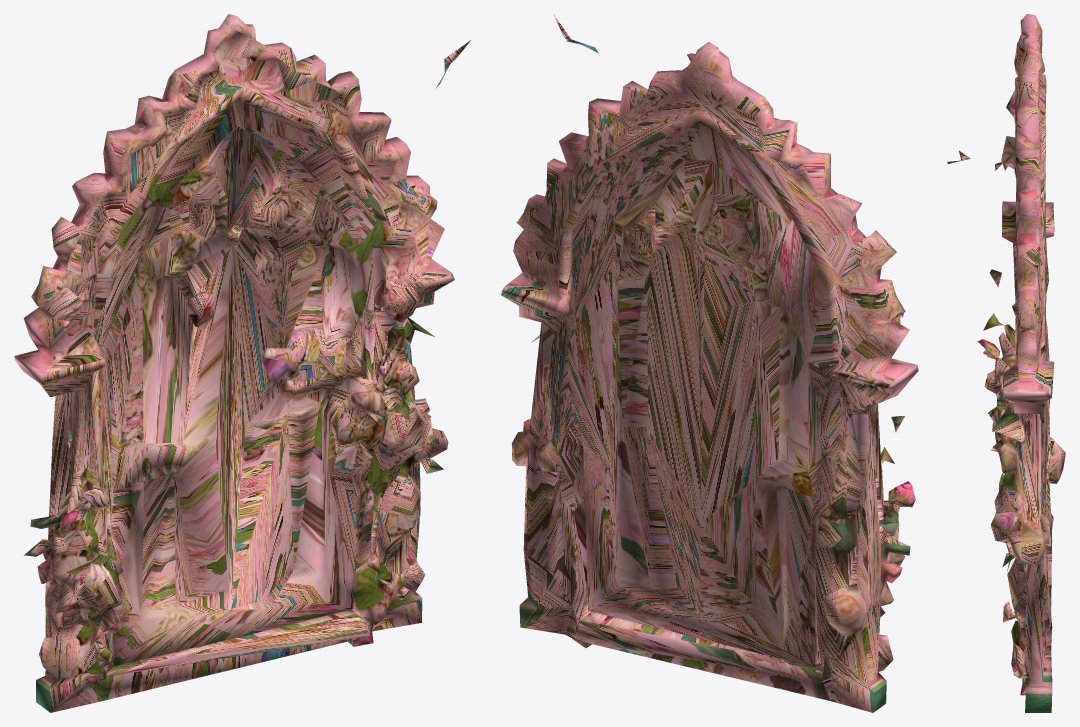
The model's file is _Object_Ornate.glb.
3 renders of one model, left to right at view 1: azimuth 30°, elevation 25°; view 2: azimuth 150°, elevation 25°; view 3: azimuth 270°, elevation 25°, orthographic. The views are drawn at different scales.
Parts seen in each view (by area): view 1: _Object_Ornate; view 2: _Object_Ornate; view 3: _Object_Ornate.
Part boxes in pixels (x1,y1,x2,y2): _Object_Ornate: (14,14,470,712); _Object_Ornate: (500,15,918,712); _Object_Ornate: (947,14,1065,712).
Size of the model in its own units: 1.33 by 1.99 by 0.3452.
Materials: 1 (1 with a texture image).
